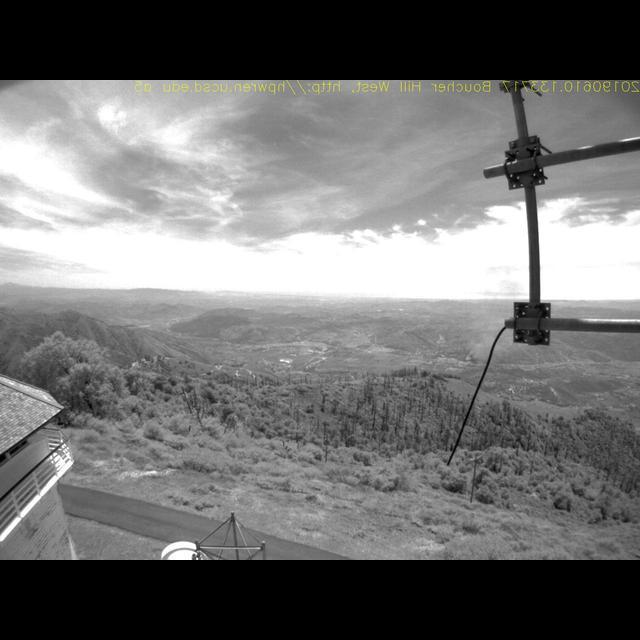Smoke: (458, 258, 520, 366)
